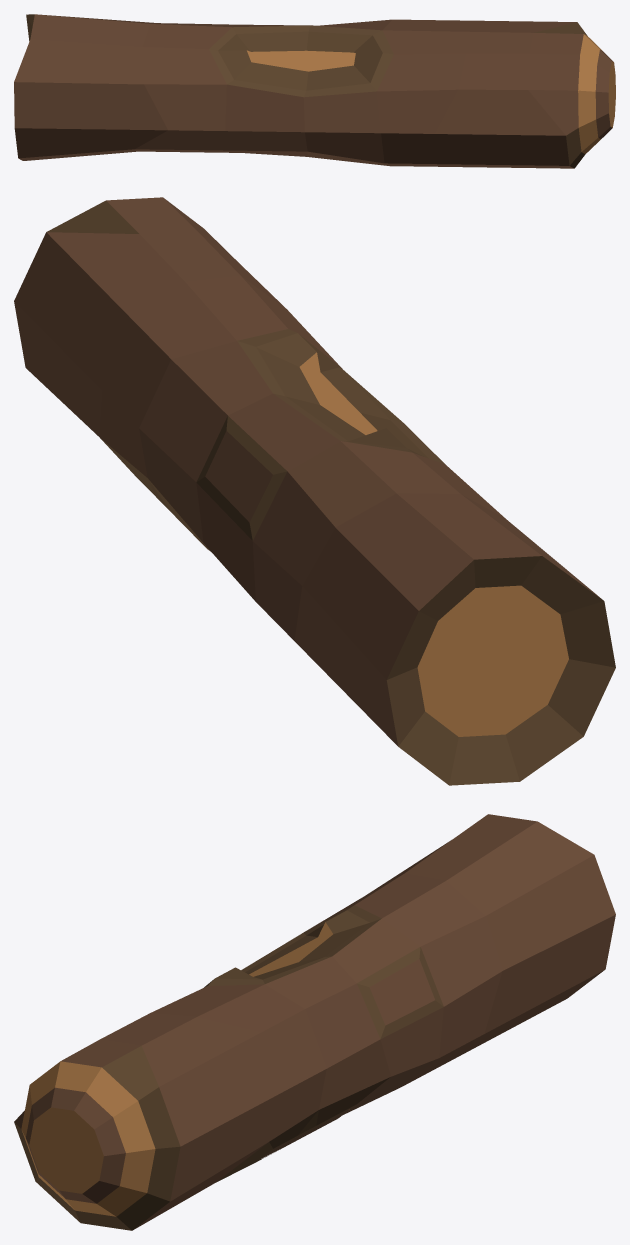
File: log.glb
3 views of the same model, one above another, from view 1: azimuth 30°, elevation 25°; view 2: azimuth 150°, elevation 25°; view 3: azimuth 270°, elevation 25° (orthographic). The views are drawn at different scales.
Parts seen in each view (by area): view 1: Cylinder; view 2: Cylinder; view 3: Cylinder.
Boxes of the visible parts, x1,y1,x2,y2 form: Cylinder: (14,14,615,168); Cylinder: (14,197,615,785); Cylinder: (14,814,615,1230).
Bounding box in the file's own units: 7.06 × 2.02 × 5.82.
